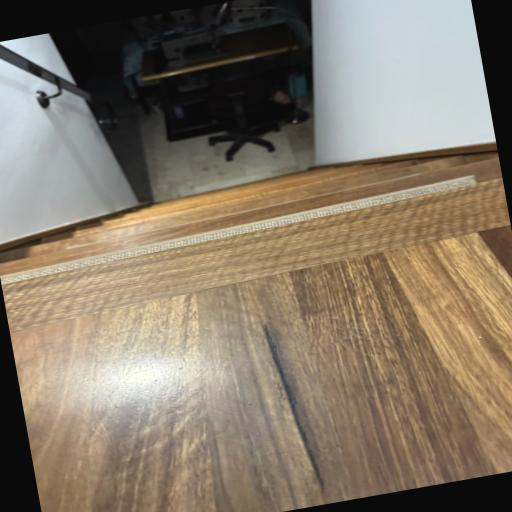stairs: (0, 151, 502, 275)
